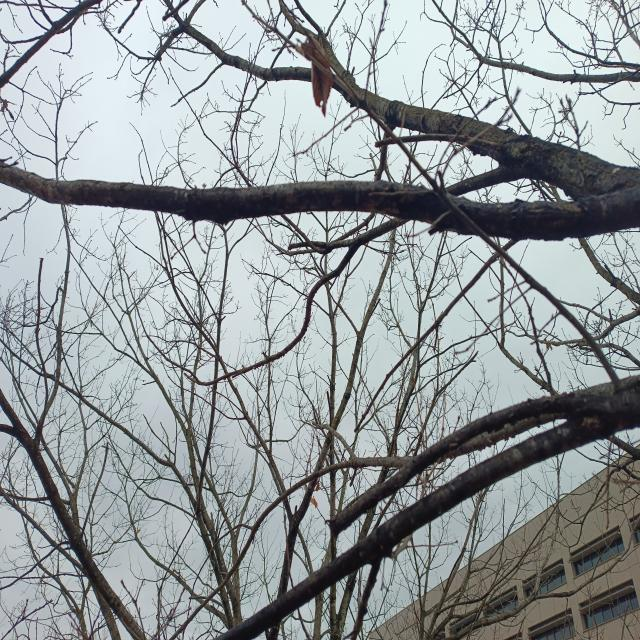Branch: (0, 163, 640, 240), (335, 70, 640, 200), (562, 375, 640, 450)
Twig: (215, 422, 571, 640), (396, 138, 619, 382), (170, 457, 410, 640), (0, 388, 144, 638), (326, 396, 566, 537), (174, 12, 311, 82), (0, 0, 101, 88), (471, 47, 640, 83), (359, 100, 395, 138), (294, 0, 325, 35), (325, 0, 346, 37), (164, 0, 174, 10)
